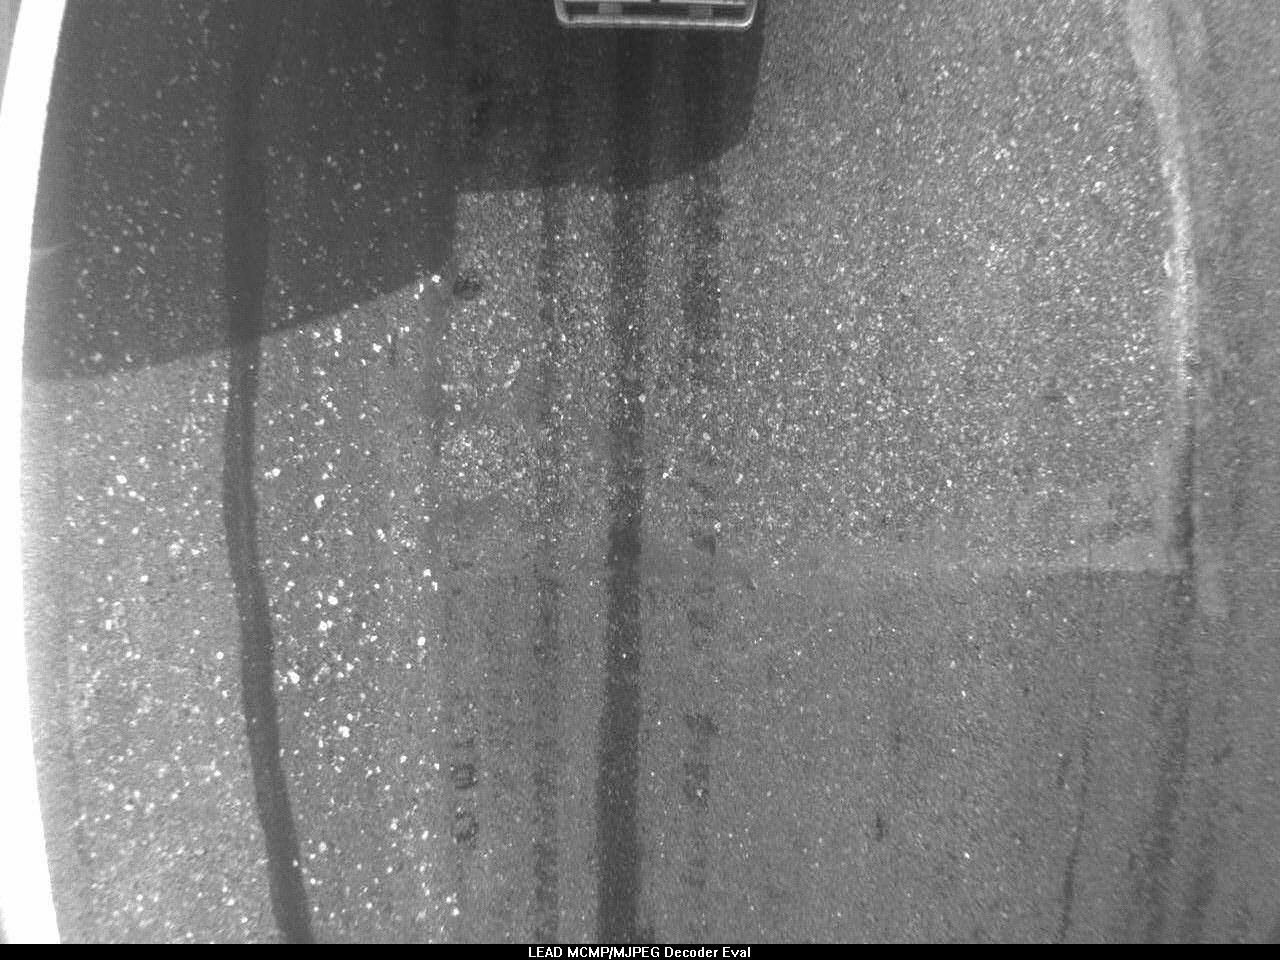sealed: (211, 2, 319, 940)
